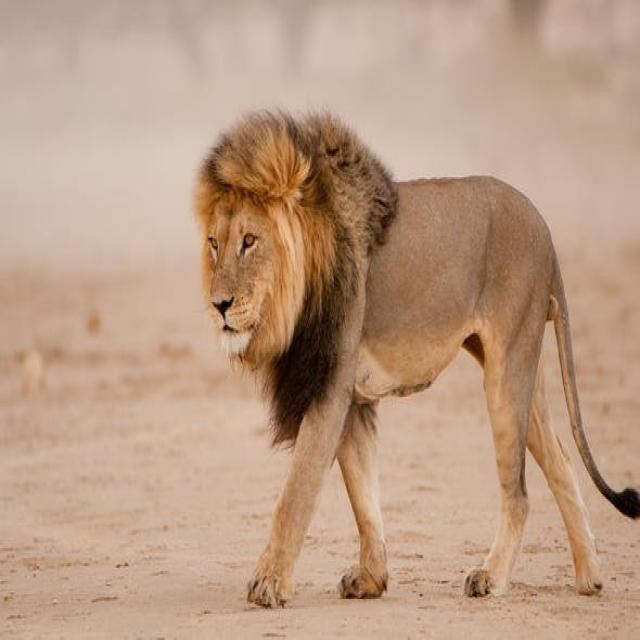Lion: (193, 105, 639, 609)
Tiger: (16, 346, 46, 397)
